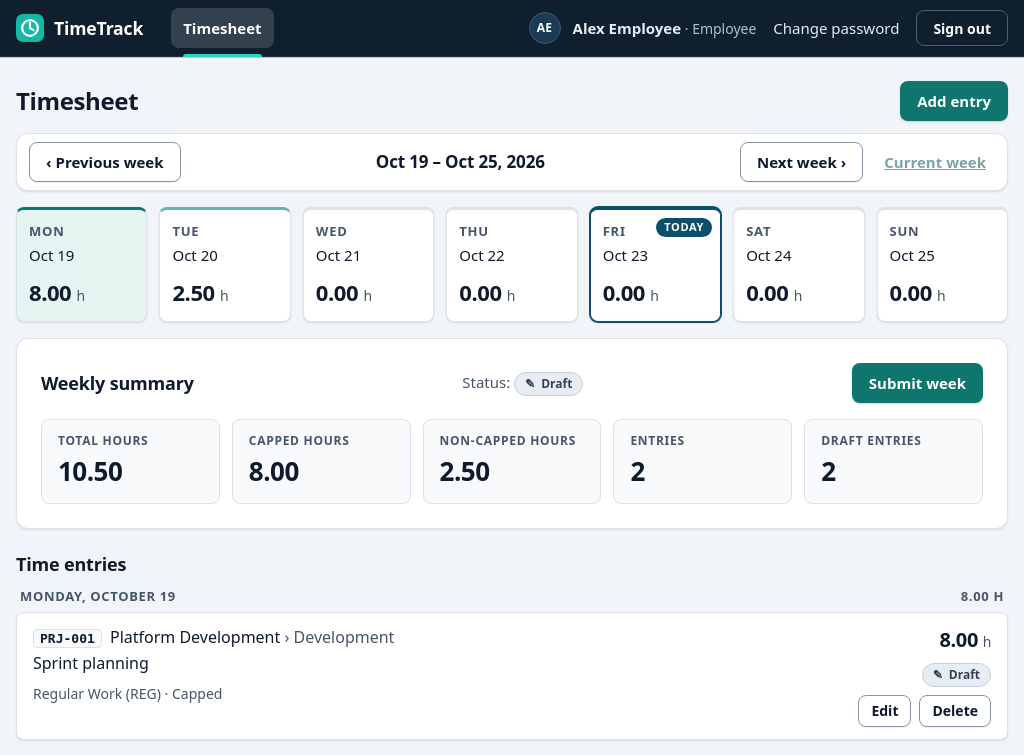
Scenario: Edit time entry › warns about unsaved edits when cancelling
The width and height of the screenshot is (1024, 755).
Click the button with aria-label "Edit entry: PRJ-001".
click(885, 711)  # box [858,695,912,727]
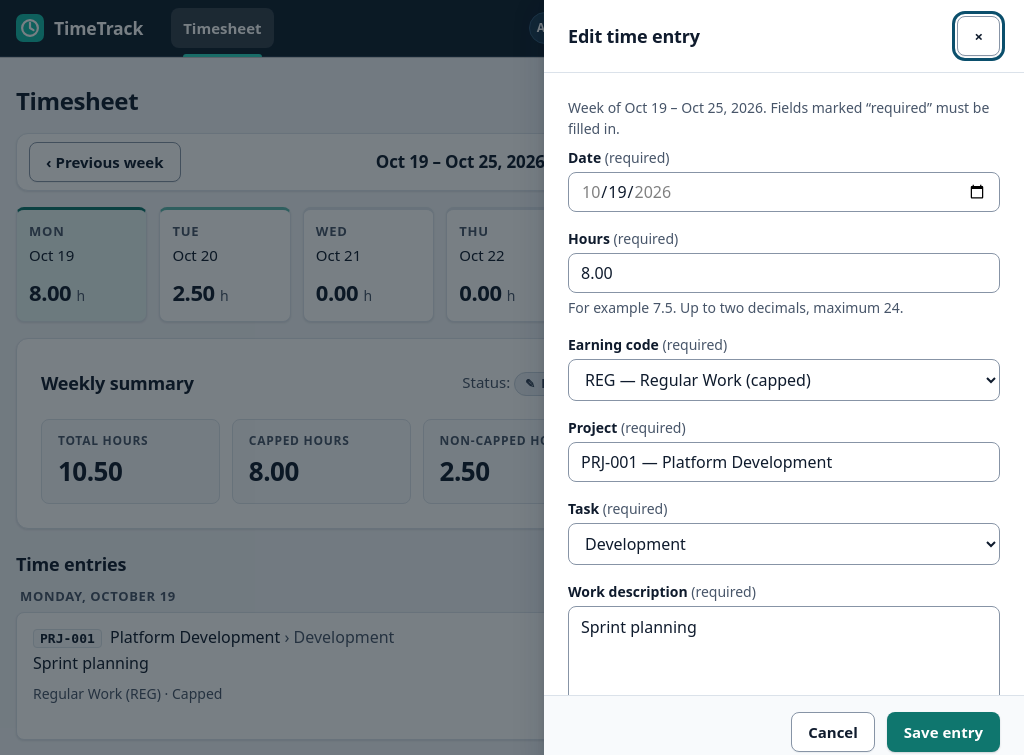
Type " more" into the text box labelled "Work description (required)".
click(784, 663); type(" more")  # box [568,606,1000,720]
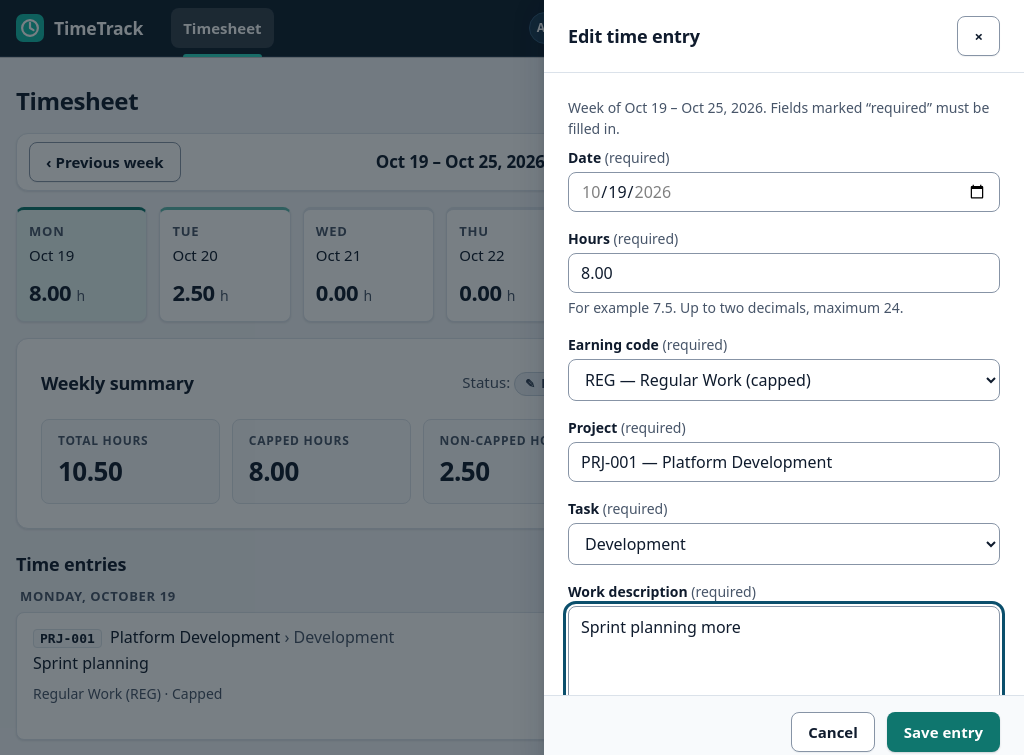
Click the button "Cancel".
click(833, 732)  # box [791,712,875,752]
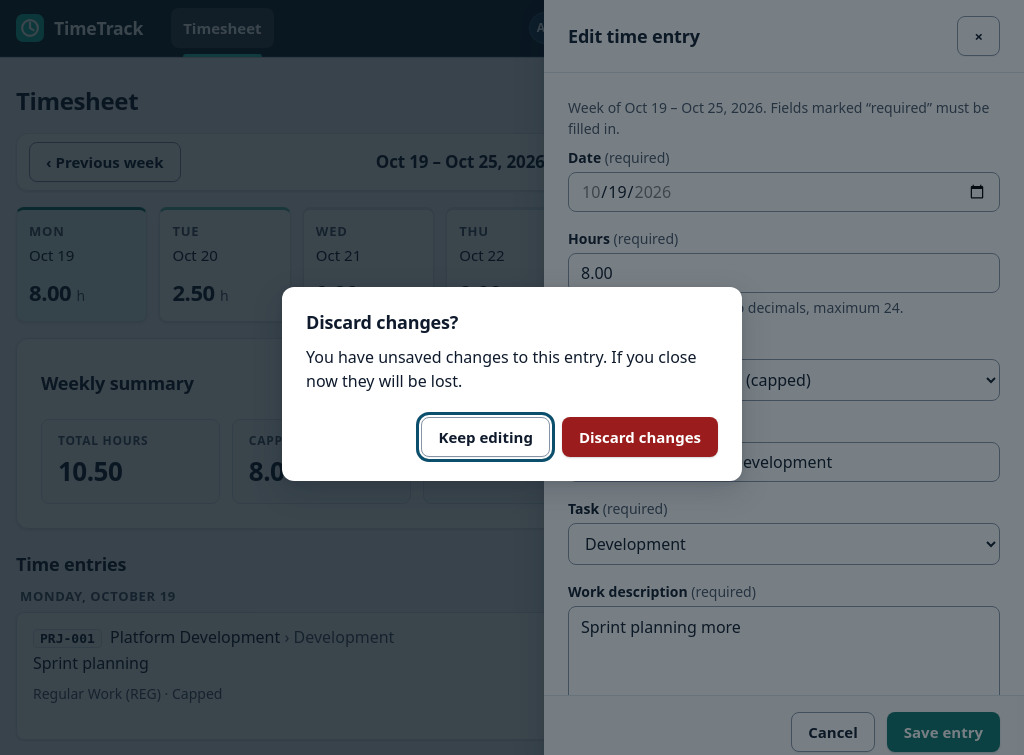
Expected: the dialog "Discard changes?" is shown, [282,287,742,481]
